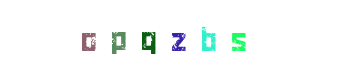B: (138, 0, 218, 80)
O: (66, 0, 146, 80)
P: (108, 0, 188, 80)
Q: (127, 0, 207, 80)
S: (182, 0, 262, 80)
Z: (130, 0, 210, 80)
